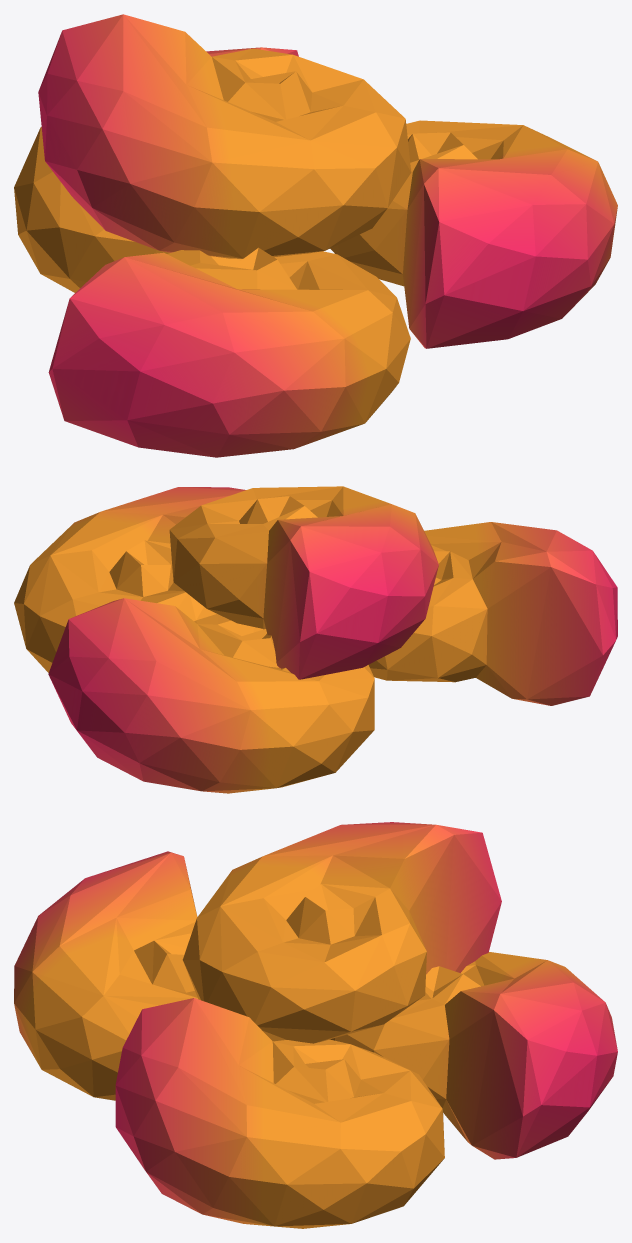
Rendered from SM_Shell_10.fbx.
The picture shows the model from 3 angles, top to bottom: view 1: azimuth 30°, elevation 25°; view 2: azimuth 150°, elevation 25°; view 3: azimuth 270°, elevation 25°; orthographic projection. The views are drawn at different scales.
Parts seen in each view (by area): view 1: Shell_10; view 2: Shell_10; view 3: Shell_10.
Part boxes in pixels (x1,y1,x2,y2): Shell_10: (14, 14, 617, 457); Shell_10: (14, 486, 617, 793); Shell_10: (14, 822, 617, 1228).
Size of the model in its own units: 62.36 by 27.2 by 58.4.
